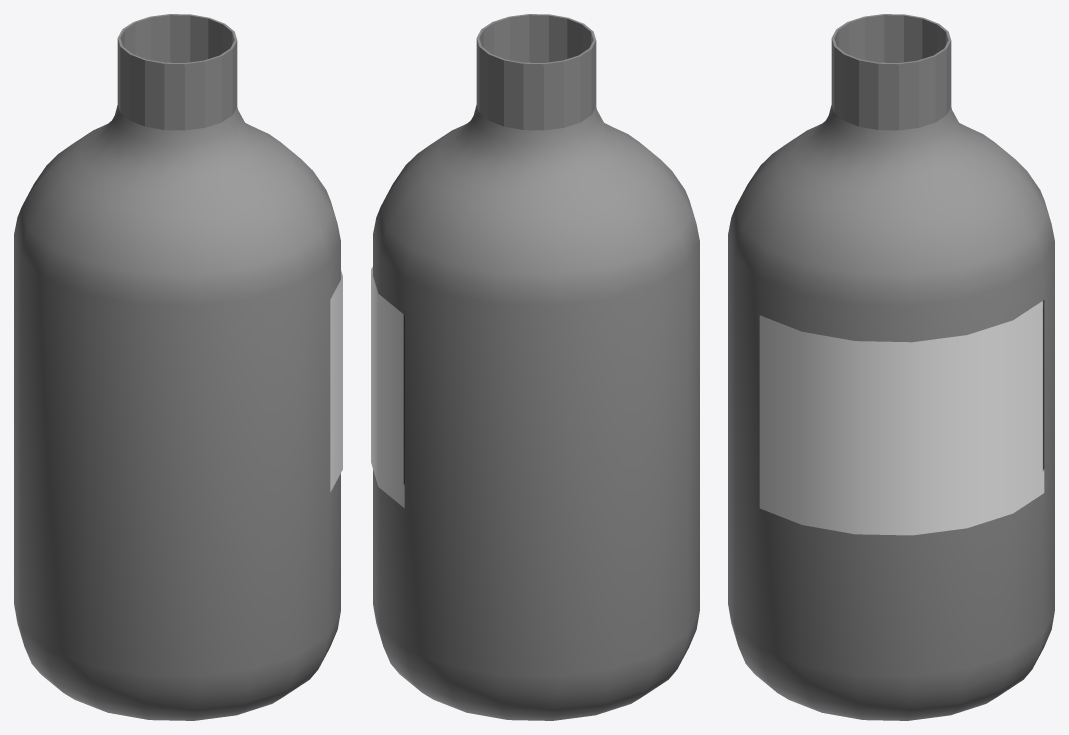
3 renders of one model, left to right at view 1: azimuth 30°, elevation 25°; view 2: azimuth 150°, elevation 25°; view 3: azimuth 270°, elevation 25°, orthographic.
Parts seen in each view (by area): view 1: SM_硫酸; view 2: SM_硫酸; view 3: SM_硫酸.
Part boxes in pixels (x1=…): SM_硫酸: x1=14, y1=14, x2=342, y2=720; SM_硫酸: x1=371, y1=14, x2=699, y2=720; SM_硫酸: x1=728, y1=14, x2=1054, y2=720.
Size of the model in its own units: 0.0898 by 0.1936 by 0.0899.
